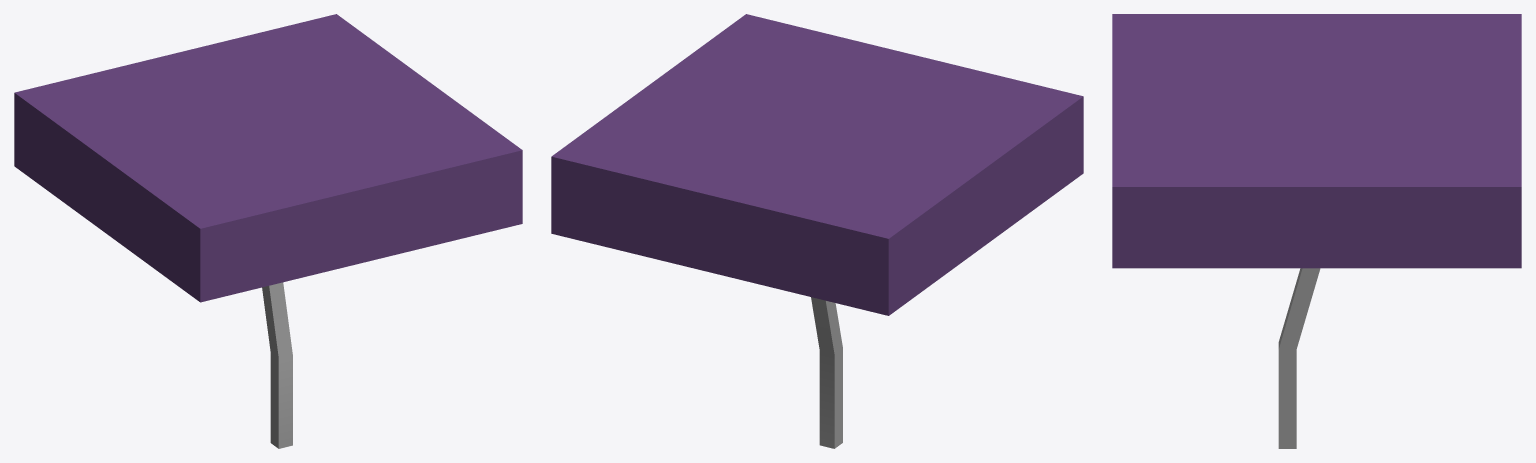
File: MushroomBig2.fbx
The picture shows the model from 3 angles, left to right: view 1: azimuth 30°, elevation 25°; view 2: azimuth 150°, elevation 25°; view 3: azimuth 270°, elevation 25°; orthographic projection. The views are drawn at different scales.
Visible parts, largest first — view 1: MushroomBig2; view 2: MushroomBig2; view 3: MushroomBig2.
Boxes of the visible parts, x1,y1,x2,y2 form: MushroomBig2: (14, 14, 522, 448); MushroomBig2: (551, 14, 1083, 448); MushroomBig2: (1112, 14, 1521, 448).
Bounding box in the file's own units: 45.46 × 42.2 × 45.46.
